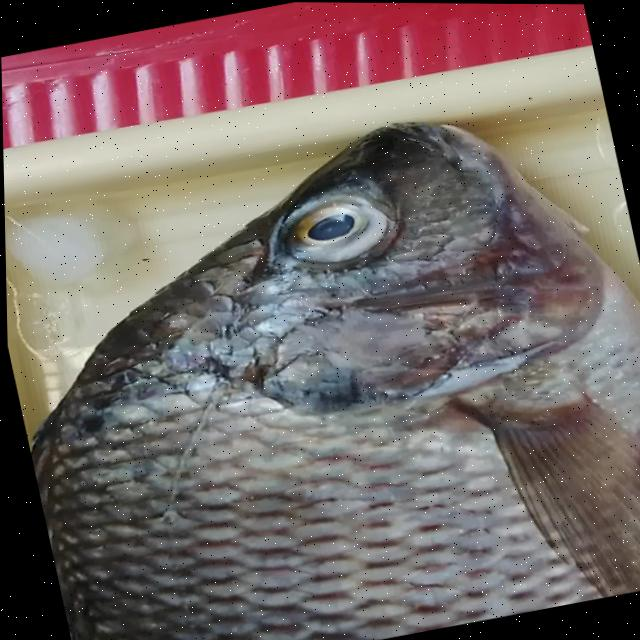Fresh: (11, 259, 640, 640), (254, 139, 467, 283)
